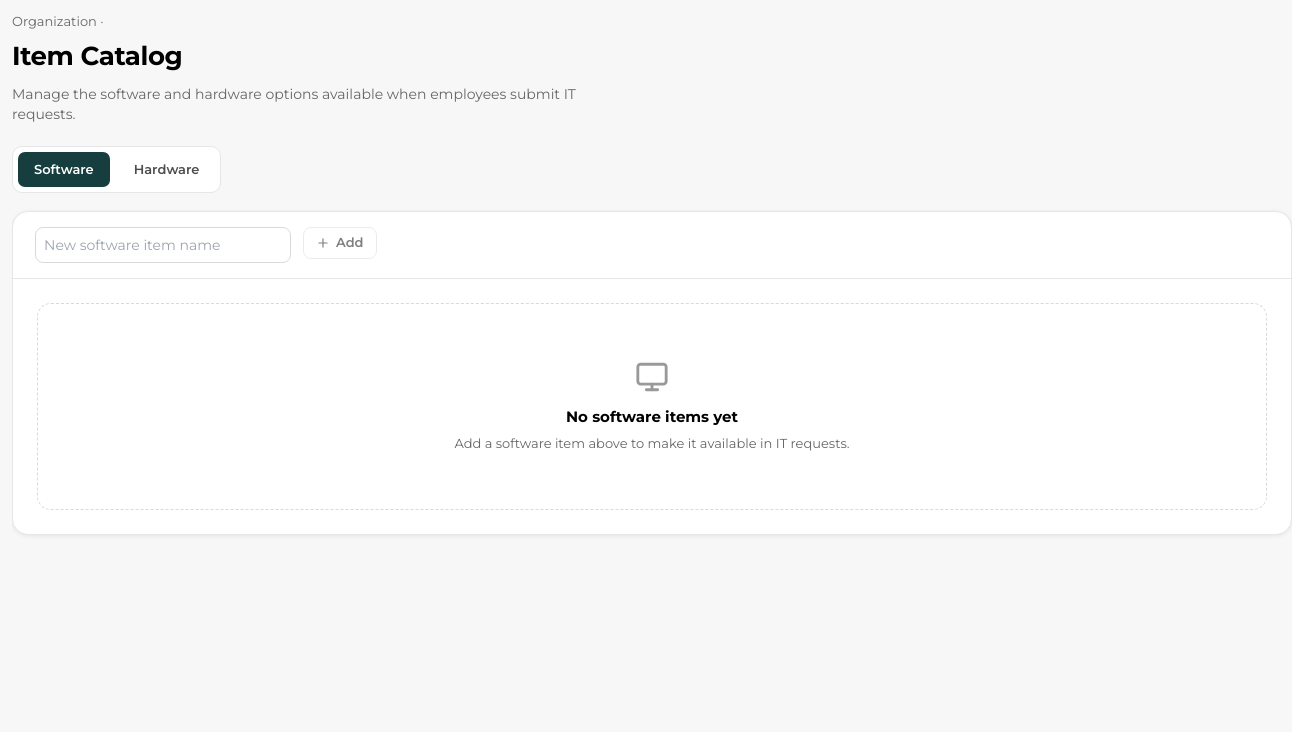
Test: a failed add surfaces the error next to the input
This screenshot has width=1292, height=732.
Expected: the text "No software items yet" is shown, [566, 407, 738, 426]
Type "Laptop" into the field with placeholder "New software item name".
click(163, 245); type("Laptop")  # box [35, 227, 291, 263]
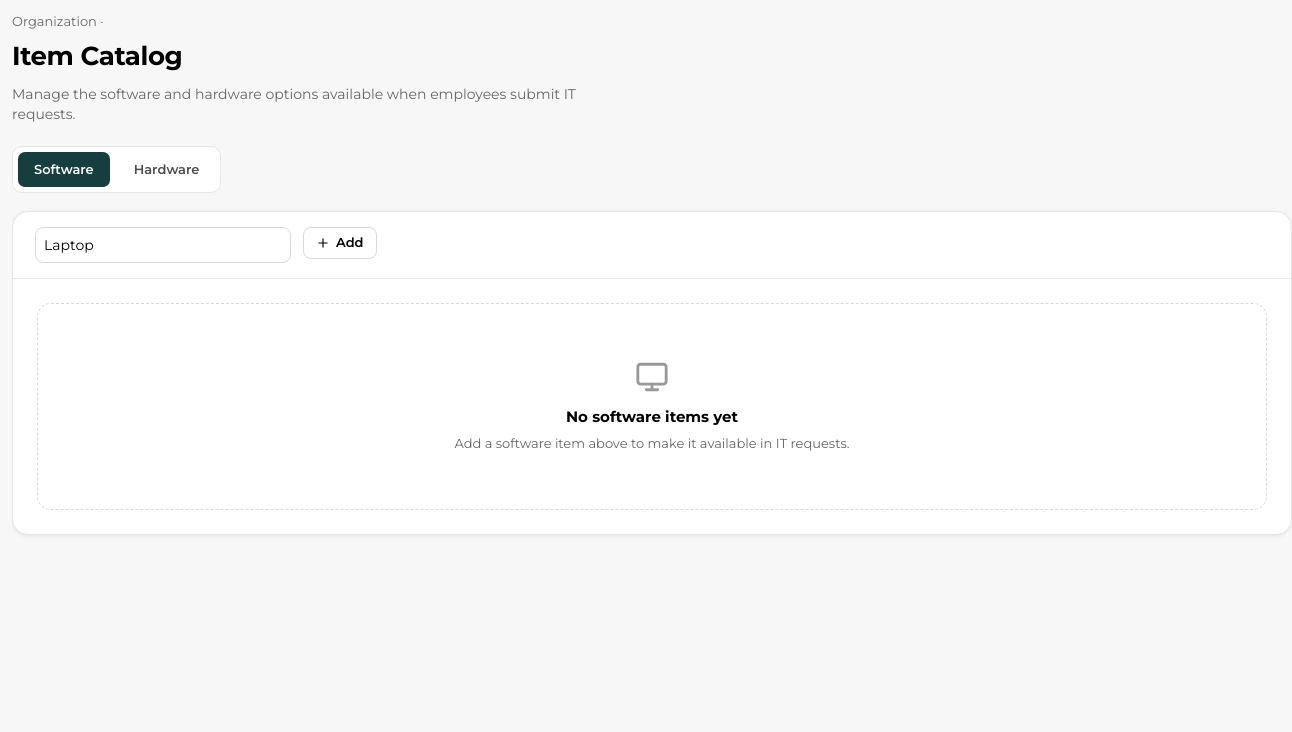
Click the button "Add".
click(340, 243)  # box [303, 227, 376, 259]
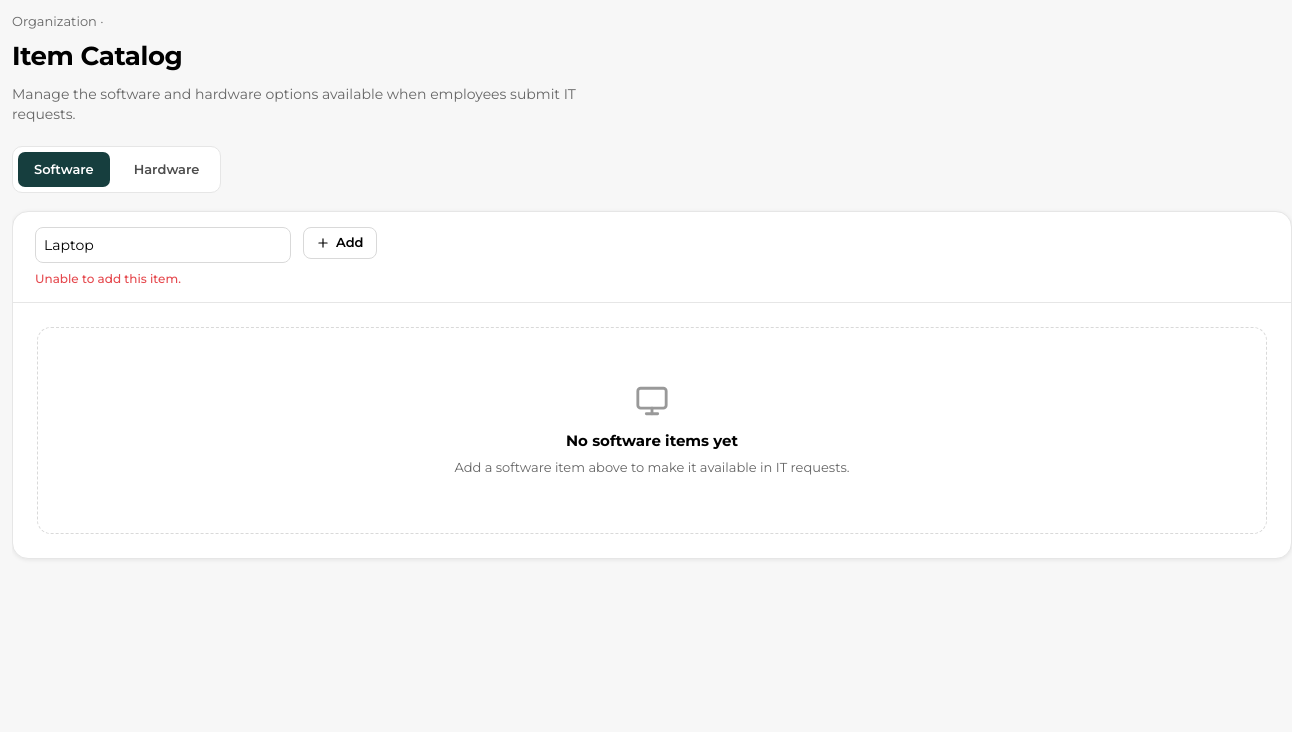
Result: the text "Unable to add this item." is shown at [35, 271, 181, 286]
